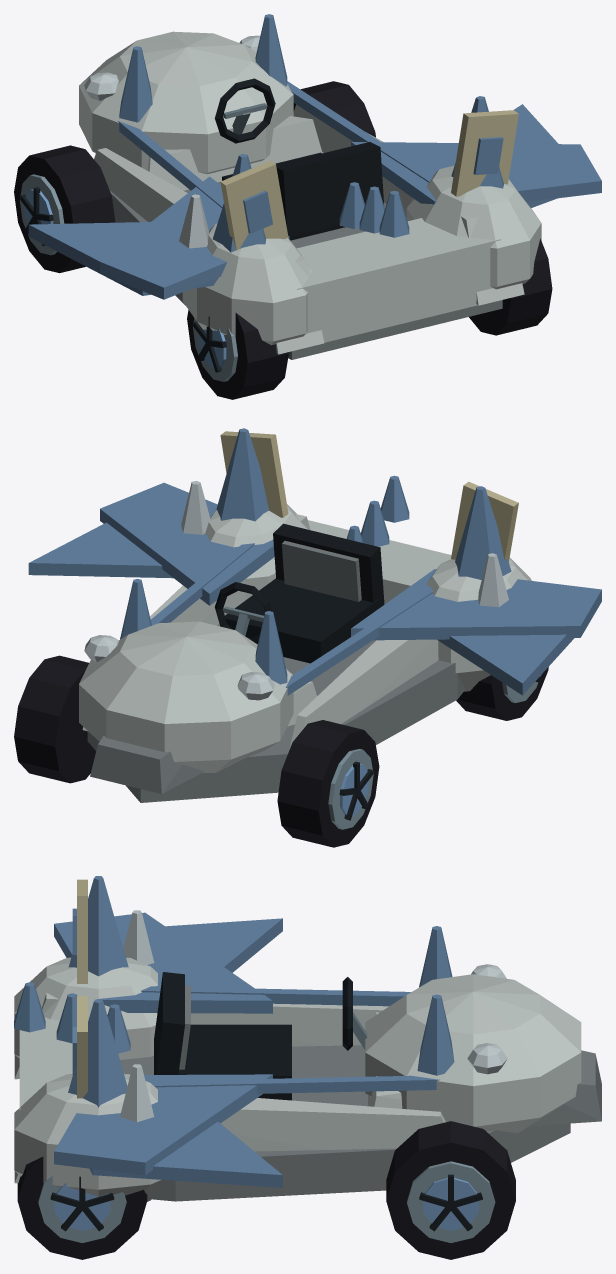
File: kart.glb
3 views of the same model, one above another, from view 1: azimuth 30°, elevation 25°; view 2: azimuth 150°, elevation 25°; view 3: azimuth 270°, elevation 25° (orthographic). The views are drawn at different scales.
Parts seen in each view (by area): view 1: identity-dragon-dragon-sculpted-prow-and-haunches, identity-dragon-motif-wings, identity-dragon-driver-cockpit, identity-dragon-motif-cards, wheel-front-left, wheel-rear-left, wheel-rear-right, identity-dragon-motif-crystals, wheel-front-right; view 2: identity-dragon-dragon-sculpted-prow-and-haunches, identity-dragon-motif-wings, identity-dragon-driver-cockpit, wheel-front-left, identity-dragon-motif-crystals, wheel-front-right, identity-dragon-motif-cards, wheel-rear-left; view 3: identity-dragon-dragon-sculpted-prow-and-haunches, identity-dragon-motif-wings, wheel-front-right, identity-dragon-driver-cockpit, identity-dragon-motif-crystals, wheel-rear-right, identity-dragon-motif-cards.
Boxes of the visible parts, bbox=[...] form: identity-dragon-dragon-sculpted-prow-and-haunches: bbox=[28, 14, 558, 359]; identity-dragon-motif-wings: bbox=[100, 142, 601, 299]; identity-dragon-driver-cockpit: bbox=[214, 78, 384, 240]; identity-dragon-motif-cards: bbox=[220, 110, 518, 250]; wheel-front-left: bbox=[14, 145, 115, 273]; wheel-rear-left: bbox=[187, 310, 288, 399]; wheel-rear-right: bbox=[469, 238, 552, 335]; identity-dragon-motif-crystals: bbox=[179, 96, 503, 252]; wheel-front-right: bbox=[293, 81, 375, 137]; identity-dragon-dragon-sculpted-prow-and-haunches: bbox=[28, 475, 574, 802]; identity-dragon-motif-wings: bbox=[100, 482, 601, 640]; identity-dragon-driver-cockpit: bbox=[215, 523, 384, 663]; wheel-front-left: bbox=[277, 720, 379, 847]; identity-dragon-motif-crystals: bbox=[181, 428, 511, 607]; wheel-front-right: bbox=[14, 655, 95, 783]; identity-dragon-motif-cards: bbox=[220, 431, 518, 561]; wheel-rear-left: bbox=[456, 667, 548, 720]; identity-dragon-dragon-sculpted-prow-and-haunches: bbox=[14, 918, 601, 1201]; identity-dragon-motif-wings: bbox=[54, 912, 272, 1175]; wheel-front-right: bbox=[386, 1121, 515, 1259]; identity-dragon-driver-cockpit: bbox=[154, 972, 367, 1100]; identity-dragon-motif-crystals: bbox=[68, 876, 154, 1122]; wheel-rear-right: bbox=[17, 1157, 147, 1259]; identity-dragon-motif-cards: bbox=[72, 879, 87, 1098].
Size of the model in its own units: 3 by 1.32 by 2.9.
